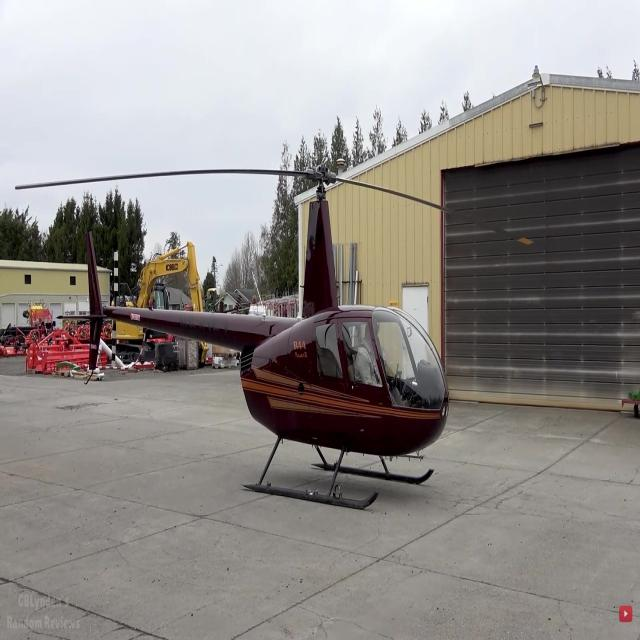CIV_HELO: (56, 165, 450, 516)
